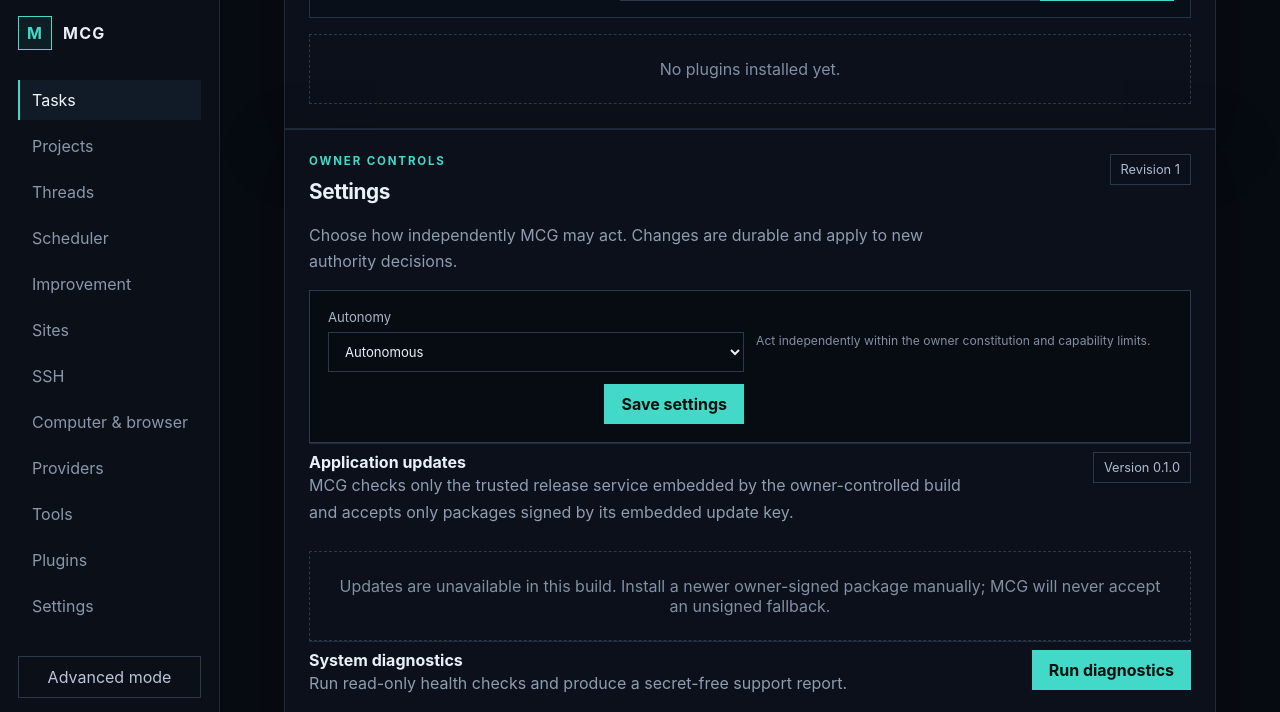
Scenario: owner settings persist autonomy with optimistic revision control
(page scrolled)
Select "Guided" in the dropdown labelled "Autonomy" at (536, 352), box top-left (328, 332), bottom-right (744, 372)
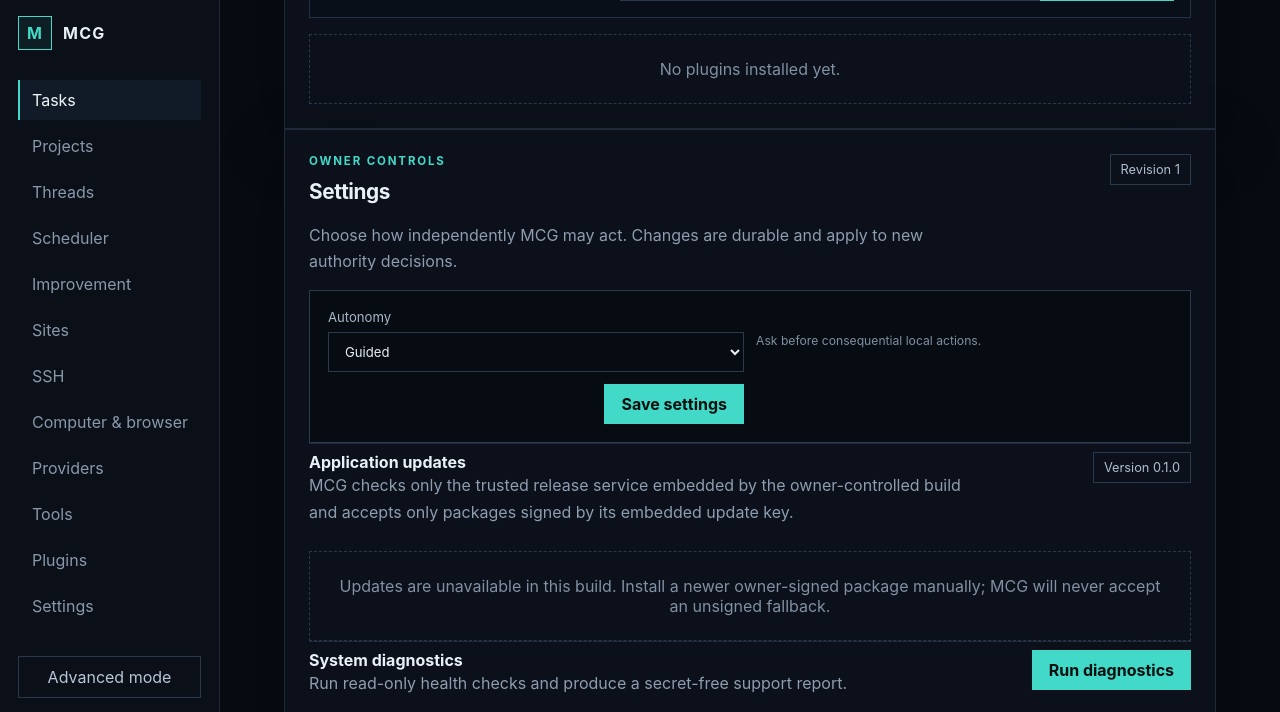
Click the button "Save settings".
click(674, 404)  # box top-left (604, 384), bottom-right (744, 424)
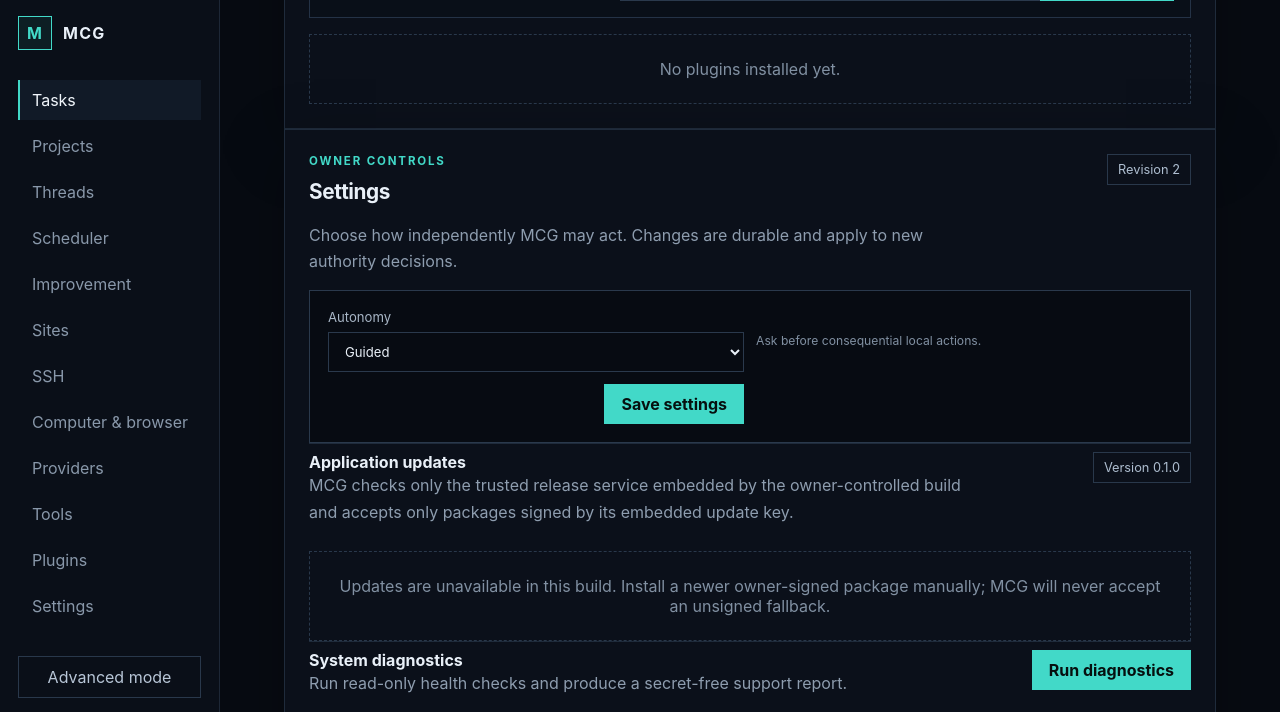
Expected: the text "Ask before consequential local actions." is shown, top-left (756, 333), bottom-right (981, 348)
Expected: the text "Revision 2" is shown, top-left (1107, 154), bottom-right (1191, 185)
